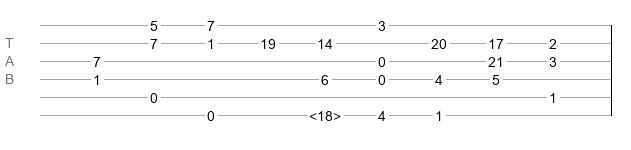0: (150, 90, 158, 100), (207, 108, 215, 118), (378, 72, 386, 82), (378, 54, 386, 64)
1: (93, 72, 101, 82), (207, 36, 215, 46), (435, 108, 443, 118), (549, 90, 557, 100)
14: (317, 36, 333, 46)
17: (488, 36, 504, 46)
19: (260, 36, 276, 46)
2: (549, 36, 557, 46)
20: (431, 36, 447, 46)
21: (488, 54, 504, 64)
3: (378, 18, 386, 28), (549, 54, 557, 64)
4: (378, 108, 386, 118), (435, 72, 443, 82)
5: (150, 18, 158, 28), (492, 72, 500, 82)
6: (321, 72, 329, 82)
7: (93, 54, 101, 64), (150, 36, 158, 46), (207, 18, 215, 28)
harmonic: (309, 108, 341, 118)
